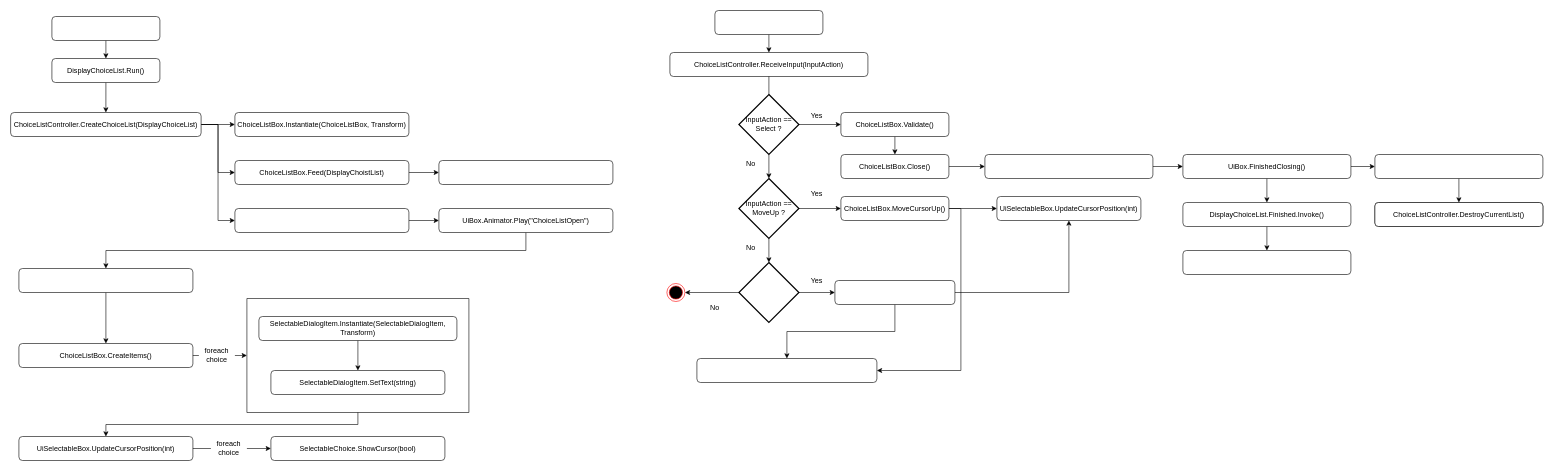
Some shapes in this 1553 by 471 pixel diagram are drawn without their labels. The box of each missing label's shape, as (x1, y1, x2, y2) in pixels:
CanvasMessageController.StartSelectionDelay(): (696, 358, 877, 382)
ChoiceListBox.FinishedOpening(): (18, 268, 193, 292)
ChoiceListBox.MoveCursorDown(): (834, 280, 955, 304)
ChoiceListBox.SetPosition(): (438, 160, 613, 184)
EventsRunner.MoveNext(): (1182, 250, 1351, 274)
EventsRunner.RunSequence(): (51, 16, 160, 40)
InputAction == MoveDown ?: (738, 262, 799, 323)
InputController.ButtonClicked: (714, 10, 823, 34)
UiBox.Animator.Play("ChoiceListClose"): (984, 154, 1153, 178)
UiBox.HasClosed.Invoke(): (1374, 154, 1543, 178)
UiBox.Open(): (234, 208, 409, 232)
